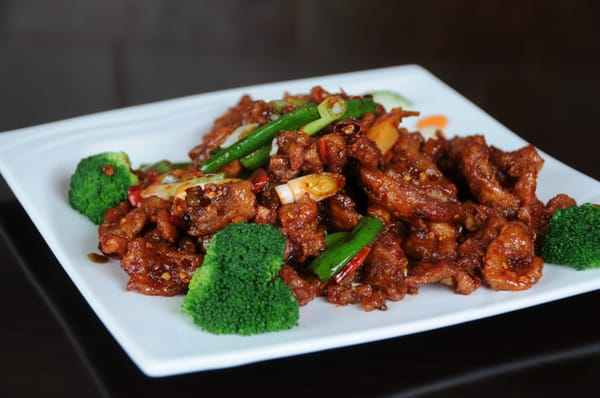curry: (181, 221, 300, 336), (306, 214, 387, 283), (68, 151, 139, 225), (540, 202, 600, 271)
